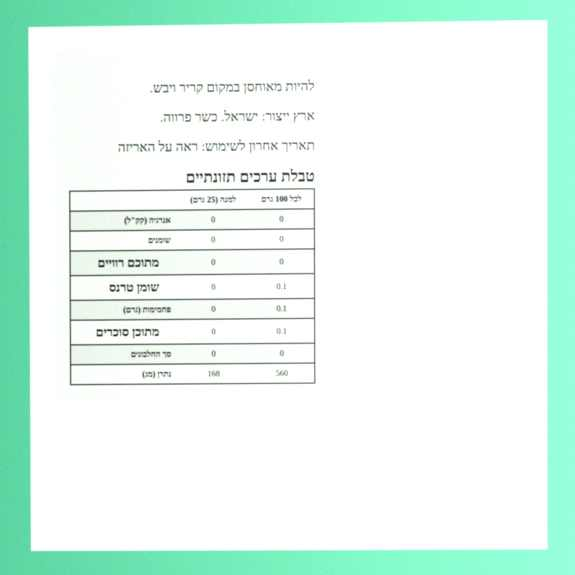carbs: (275, 303, 288, 314)
energy: (278, 213, 285, 224)
fat: (278, 233, 285, 244)
protein: (279, 348, 285, 359)
